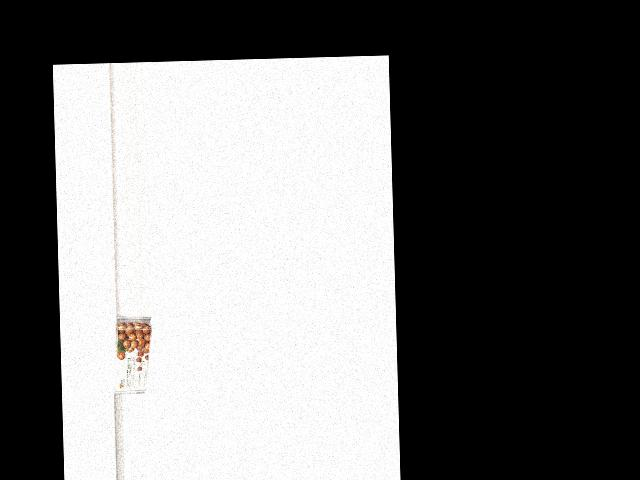chocolate: (114, 316, 154, 395)
